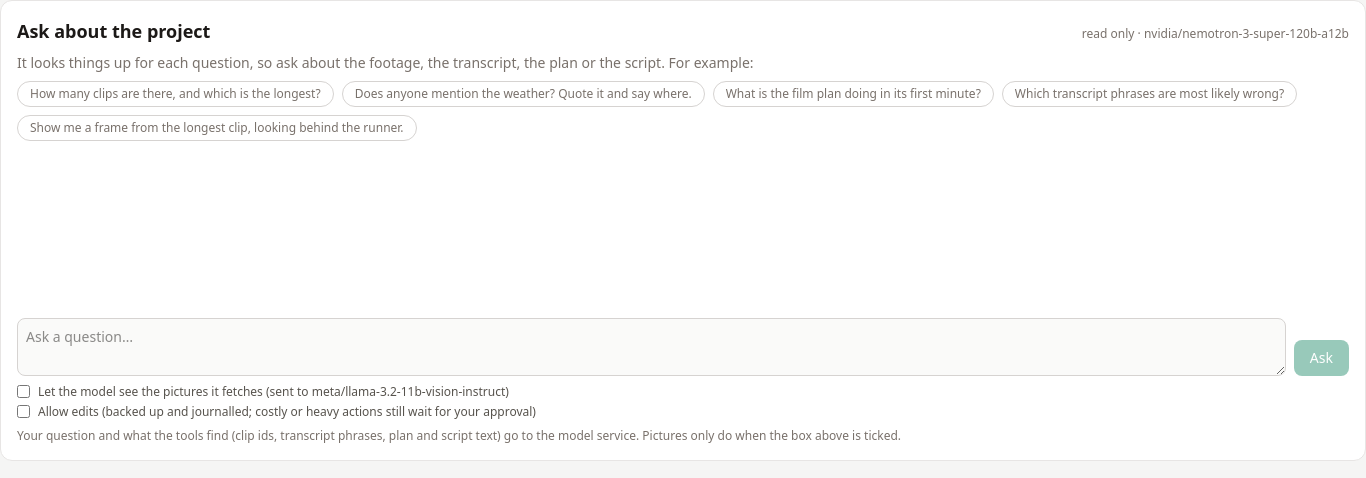
Test: AskPage › shows a dropped connection as an error too
Type "q" into the text box named "Your question" at (651, 347), box x1=17 y1=318 x2=1286 y2=376
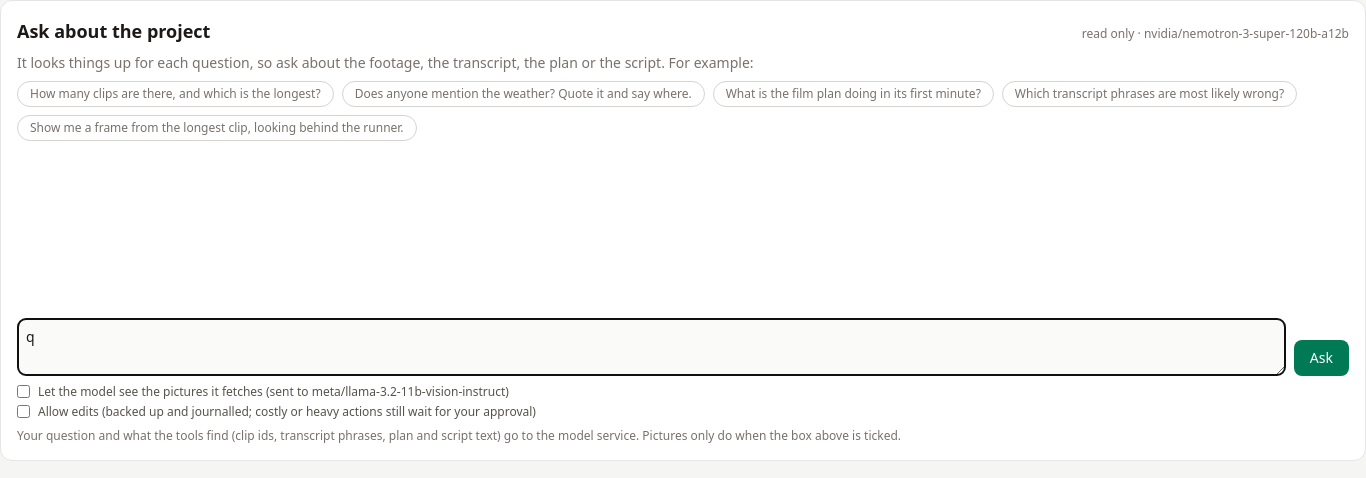
Click the button "Ask" at (1321, 358), box x1=1294 y1=340 x2=1349 y2=376
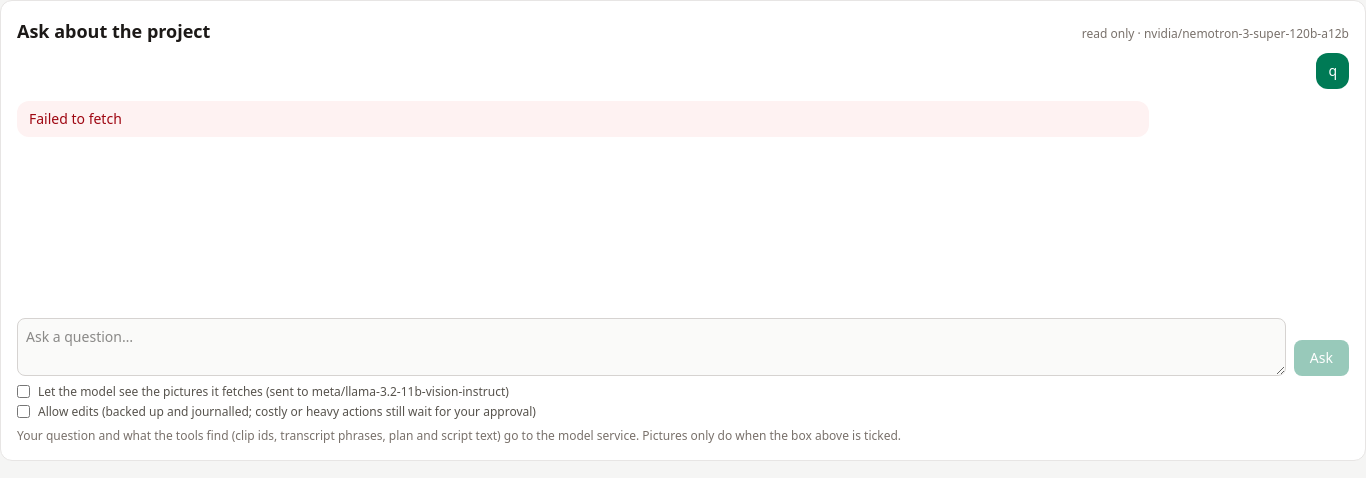
Expected: the text "Failed to fetch" is shown, x1=29 y1=109 x2=122 y2=128
